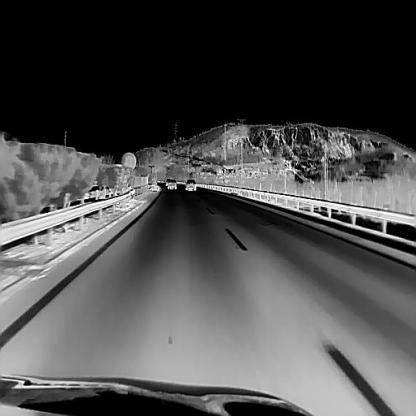car: (186, 178, 196, 189), (166, 178, 176, 188), (165, 177, 170, 185)
